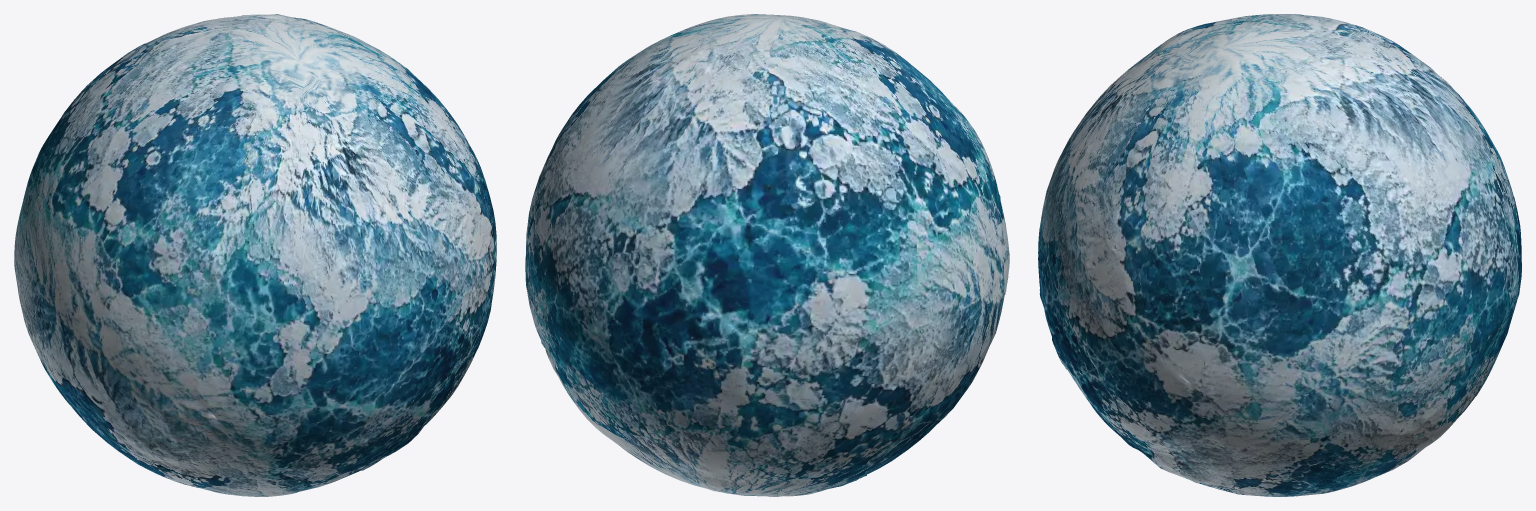
File: planet_2.glb
3 renders of one model, left to right at view 1: azimuth 30°, elevation 25°; view 2: azimuth 150°, elevation 25°; view 3: azimuth 270°, elevation 25°, orthographic.
Visible parts, largest first — view 1: Mesh_0.001; view 2: Mesh_0.001; view 3: Mesh_0.001.
Part boxes in pixels (x1=…): Mesh_0.001: x1=14, y1=14, x2=496, y2=496; Mesh_0.001: x1=525, y1=14, x2=1009, y2=496; Mesh_0.001: x1=1038, y1=14, x2=1521, y2=496.
Bounding box in the file's own units: 1.9 × 1.9 × 1.9.
Materials: 1 (1 with a texture image).
